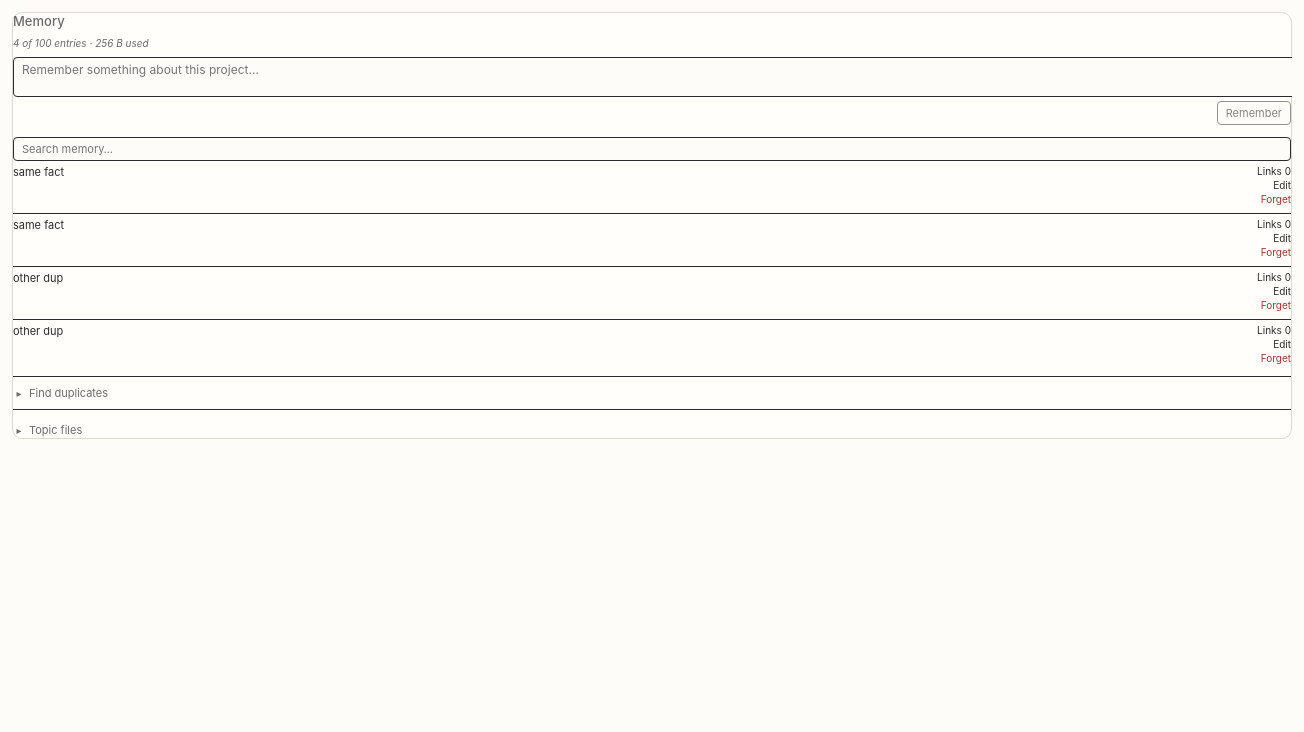
MemoryPanel — D66 selective compact › keeps the "Removed N" notice visible after a compaction
Check: the text "4 of 100 entries · 256 B used" is shown, box [13, 37, 149, 49]
What coordinates should you click on to do the following:
click the button "▸ Find duplicates"
I would click on:
 (61, 393)
Its box is [13, 386, 108, 400].
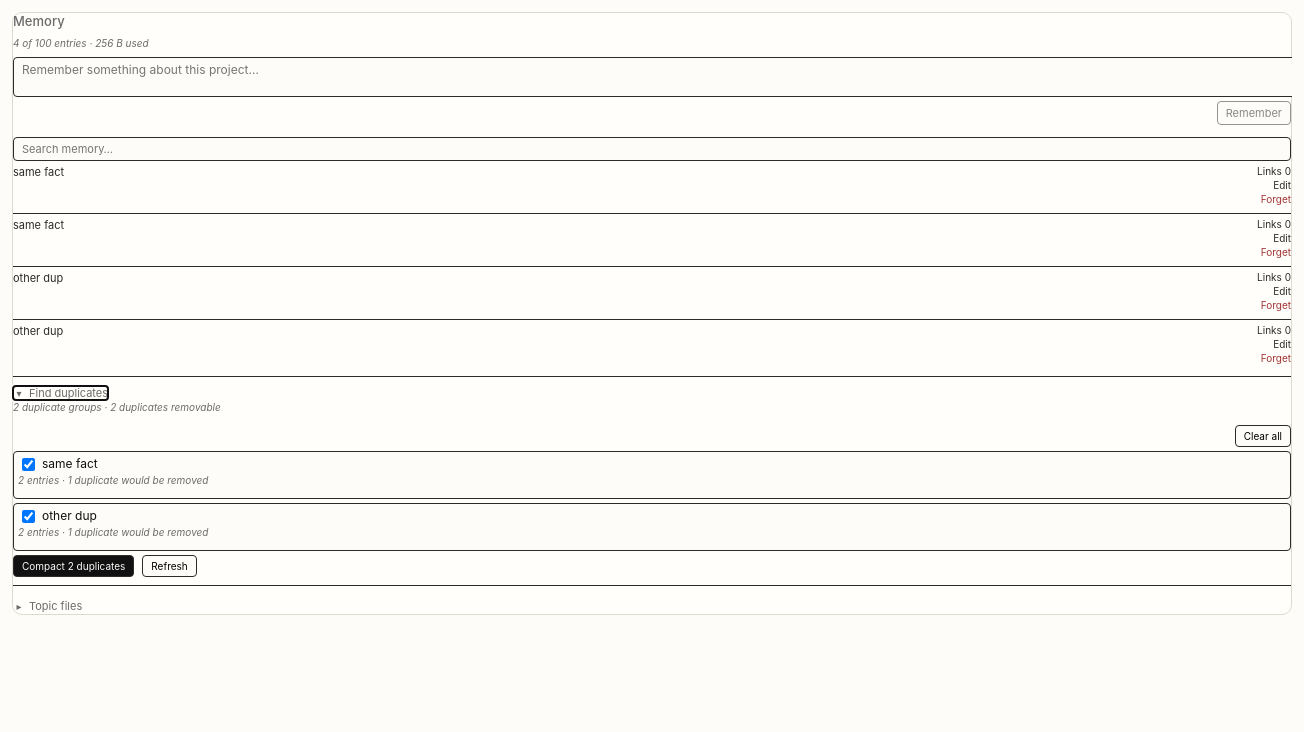
Check: the text "2 duplicate groups · 2 duplicates removable" is shown, box [13, 401, 221, 413]
What coordinates should you click on to do the following:
click the button "Compact 2 duplicates"
I would click on:
 (74, 566)
Its box is [13, 555, 134, 577].
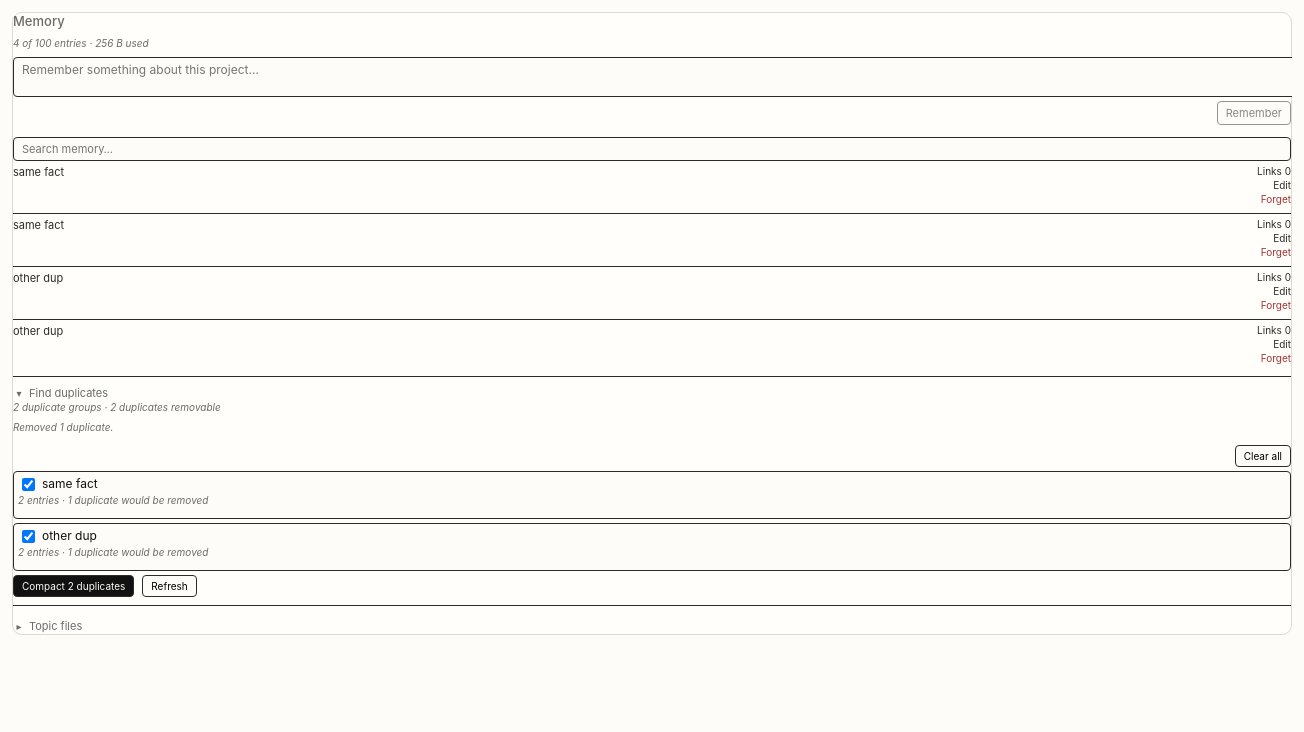
Check: the text "Removed 1 duplicate." is shown, box [13, 421, 113, 433]
